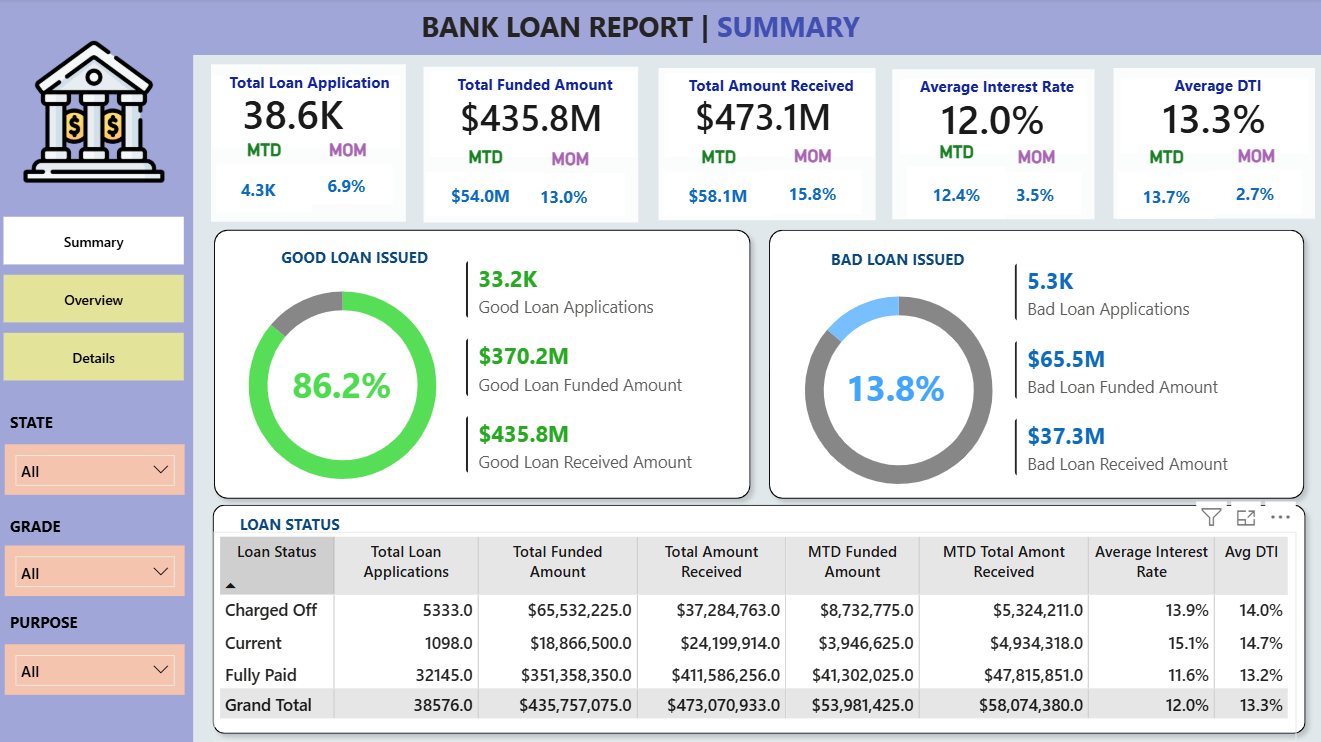

What the dashboard file says about the page in this screenshot:
{"tool":"powerbi","page":{"name":"Summary","canvas":[1280,720],"ordinal":0},"visuals":[{"type":"shape","box":[0,0,1280,55],"z":0},{"type":"shape","box":[208.2,63.9,188.2,152],"z":0,"group":"g1"},{"type":"shape","box":[413.1,65.9,207.5,150.3],"z":0,"group":"g4"},{"type":"shape","box":[639.4,67.6,209.9,146.9],"z":0,"group":"g5"},{"type":"shape","box":[1078.2,67.6,194.7,145.4],"z":0,"group":"g6"},{"type":"shape","box":[865.2,68.8,195.2,145.1],"z":0,"group":"g3"},{"type":"cardVisual","fields":{"Data":["Bank Loan data.Good Loan Applications"]},"box":[437.3,236.4,236.4,90.6],"z":0,"group":"g7"},{"type":"cardVisual","fields":{"Data":["Bank Loan data.Bad Loan Applications"]},"box":[966.4,239,236.4,90.6],"z":0,"group":"g8"},{"type":"shape","box":[0,54.2,190.3,665.3],"z":1000},{"type":"cardVisual","fields":{"Data":["Bank Loan data.total funded AMOUNT"]},"box":[419.2,71.3,199.8,82.4],"z":1000,"group":"g4"},{"type":"cardVisual","fields":{"Data":["Bank Loan data.total amount recived"]},"box":[645.5,72.8,202.1,80.5],"z":1000,"group":"g5"},{"type":"cardVisual","fields":{"Data":["Bank Loan data.Total Loan Applications"]},"box":[208.6,74.5,181,70],"z":1000,"group":"g1"},{"type":"cardVisual","fields":{"Data":["Bank Loan data.Avg dti"]},"box":[1085.5,77.7,180.4,72.5],"z":1000,"group":"g6"},{"type":"cardVisual","fields":{"Data":["Bank Loan data.average interest rate"]},"box":[872.5,78.9,180.9,72.3],"z":1000,"group":"g3"},{"type":"cardVisual","fields":{"Data":["Bank Loan data.Good Loan Funded Amount"]},"box":[437.3,311.2,260,91.9],"z":1000,"group":"g7"},{"type":"cardVisual","fields":{"Data":["Bank Loan data.Bad Loan Funded Amount"]},"box":[966.4,313.8,260,91.9],"z":1000,"group":"g8"},{"type":"textbox","box":[405.4,3.6,439.1,48.3],"z":2000},{"type":"textbox","box":[216,65.9,173.3,34.2],"z":2000,"group":"g1"},{"type":"textbox","box":[428.6,67.2,184.1,36.6],"z":2000,"group":"g4"},{"type":"textbox","box":[655.1,68.9,186.3,35.8],"z":2000,"group":"g5"},{"type":"textbox","box":[1092.8,68.9,172.8,35.4],"z":2000,"group":"g6"},{"type":"textbox","box":[879.8,70.1,173.3,35.3],"z":2000,"group":"g3"},{"type":"cardVisual","fields":{"Data":["Bank Loan data.Good Loan Received Amount"]},"box":[437.3,386.1,271.8,90.6],"z":2000,"group":"g7"},{"type":"cardVisual","fields":{"Data":["Bank Loan data.Bad Loan Received Amount"]},"box":[966.4,388.7,271.8,90.6],"z":2000,"group":"g8"},{"type":"group","id":"g1","title":"Group 1","box":[207.9,63.9,188.5,152],"z":3000},{"type":"cardVisual","title":"MTD","fields":{"Data":["Bank Loan data.MTD loan application"]},"box":[207.9,136.5,102.5,76],"z":3000,"group":"g1"},{"type":"cardVisual","title":"MTD","fields":{"Data":["Bank Loan data.Mtd average interest"]},"box":[874.6,139.1,105,79.6],"z":3000,"group":"g3"},{"type":"cardVisual","title":"MTD","fields":{"Data":["Bank Loan data.Mtd Total amont received"]},"box":[639.9,143,116.3,73],"z":3000,"group":"g5"},{"type":"cardVisual","title":"MTD","fields":{"Data":["Bank Loan data.MTD FUNDED AMOUNT"]},"box":[410.3,143.5,124.7,72.2],"z":3000,"group":"g4"},{"type":"cardVisual","title":"MTD","fields":{"Data":["Bank Loan data.MTD Avg DTI"]},"box":[1077.4,143.5,104.9,74.9],"z":3000,"group":"g6"},{"type":"group","id":"g2","title":"Group 1","box":[410.3,65.9,210.3,150.3],"z":4000},{"type":"cardVisual","title":"MOM","fields":{"Data":["Bank Loan data.mon loan application"]},"box":[291.6,136.7,97.6,68.3],"z":4000,"group":"g1"},{"type":"cardVisual","title":"MOM","fields":{"Data":["Bank Loan data.MOM avg dti"]},"box":[1168.2,142.2,97.3,70.8],"z":4000,"group":"g6"},{"type":"cardVisual","title":"MOM","fields":{"Data":["Bank Loan data.mon total amount application"]},"box":[736.5,142.9,105,71.5],"z":4000,"group":"g5"},{"type":"cardVisual","title":"MOM","fields":{"Data":["Bank Loan data.moM avg interest rate"]},"box":[955.5,143.2,97.6,70.7],"z":4000,"group":"g3"},{"type":"cardVisual","title":"MOM","fields":{"Data":["Bank Loan data.mon FUNDED AMOUNT application"]},"box":[496.5,144.8,116.9,70.9],"z":4000,"group":"g4"},{"type":"group","id":"g3","title":"Group 1","box":[865.2,68.8,195.2,149.9],"z":5000},{"type":"group","id":"g4","title":"Group 2","box":[410.3,65.9,210.3,150.3],"z":5001,"group":"g2"},{"type":"group","id":"g5","title":"Group 2","box":[639.4,67.6,209.9,148.4],"z":6000},{"type":"group","id":"g6","title":"Group 1","box":[1077.4,67.6,195.4,150.8],"z":7000},{"type":"shape","box":[201.5,214.7,535.7,277.5],"z":8000},{"type":"shape","box":[737.1,214.7,534.5,277.5],"z":9000},{"type":"cardVisual","fields":{"Data":["Bank Loan data.Good loan %"]},"box":[254.7,338.8,158.4,65.9],"z":10000},{"type":"donutChart","fields":{"Category":["Bank Loan data.Good VS Bad Loan"],"Y":["Bank Loan data.Total Loan Applications"]},"box":[210.1,256.1,249.5,236.4],"z":11000},{"type":"textbox","box":[270,235.8,191.4,39.3],"z":12000},{"type":"group","id":"g7","title":"Group 3","box":[437.3,236.4,271.8,240.3],"z":13000},{"type":"group","id":"g8","title":"Group 3","box":[966.4,239,271.8,240.3],"z":14000},{"type":"cardVisual","fields":{"Data":["Bank Loan data.BAD loan %"]},"box":[789.2,341.4,158.4,65.9],"z":15000},{"type":"donutChart","fields":{"Category":["Bank Loan data.Good VS Bad Loan"],"Y":["Bank Loan data.Total Loan Applications"]},"box":[747.2,260,249.5,236.4],"z":16000},{"type":"textbox","box":[774.7,236.4,191.7,38.1],"z":17000},{"type":"shape","box":[200.3,480.2,1072.5,238.9],"z":18000},{"type":"tableEx","fields":{"Values":["Bank Loan data.loan_status","Bank Loan data.Total Loan Applications","Bank Loan data.total funded AMOUNT","Bank Loan data.total amount recived","Bank Loan data.MTD FUNDED AMOUNT","Bank Loan data.Mtd Total amont received","Bank Loan data.average interest rate","Bank Loan data.Avg dti"]},"box":[209.9,515.2,1044.8,203.9],"z":19000},{"type":"textbox","box":[230.4,492.2,135.1,36.2],"z":20000},{"type":"slicer","fields":{"Values":["Bank Loan data.Address State"]},"box":[8.8,431,173.9,49.1],"z":21000},{"type":"textbox","box":[8.8,394.4,70.6,39.1],"z":22000},{"type":"slicer","fields":{"Values":["Bank Loan data.Grade"]},"box":[8.8,528,173.9,49.1],"z":23000},{"type":"slicer","fields":{"Values":["Bank Loan data.Purpose Of Loan"]},"box":[8.8,623.7,173.9,49.1],"z":24000},{"type":"textbox","box":[8.8,495.2,70.6,39.1],"z":25000},{"type":"textbox","box":[8.8,587.2,86.9,39.1],"z":26000},{"type":"pageNavigator","box":[7.5,211.5,174.2,160.5],"z":27000},{"type":"image","box":[26.5,35,136.3,149.6],"z":28000}]}

Visuals, with their boxes in screenshot pixels (x1, y1, x2, y2), scaled from the page's 1280x720 canvas onto the 1321x742 screenshot:
shape: 0:0:1320:57
shape: 215:66:409:222
shape: 426:68:640:223
shape: 660:70:877:221
shape: 1113:70:1314:220
shape: 893:71:1094:220
cardVisual - Bank Loan data.Good Loan Applications: 451:244:695:337
cardVisual - Bank Loan data.Bad Loan Applications: 997:246:1241:340
shape: 0:56:196:741
cardVisual - Bank Loan data.total funded AMOUNT: 433:73:639:158
cardVisual - Bank Loan data.total amount recived: 666:75:875:158
cardVisual - Bank Loan data.Total Loan Applications: 215:77:402:149
cardVisual - Bank Loan data.Avg dti: 1120:80:1306:155
cardVisual - Bank Loan data.average interest rate: 900:81:1087:156
cardVisual - Bank Loan data.Good Loan Funded Amount: 451:321:720:415
cardVisual - Bank Loan data.Bad Loan Funded Amount: 997:323:1266:418
textbox: 418:4:872:53
textbox: 223:68:402:103
textbox: 442:69:632:107
textbox: 676:71:868:108
textbox: 1128:71:1306:107
textbox: 908:72:1087:109
cardVisual - Bank Loan data.Good Loan Received Amount: 451:398:732:491
cardVisual - Bank Loan data.Bad Loan Received Amount: 997:401:1278:494
"Group 1" group: 215:66:409:222
"MTD" cardVisual: 215:141:320:219
"MTD" cardVisual: 903:143:1011:225
"MTD" cardVisual: 660:147:780:223
"MTD" cardVisual: 423:148:552:222
"MTD" cardVisual: 1112:148:1220:225
"Group 1" group: 423:68:640:223
"MOM" cardVisual: 301:141:402:211
"MOM" cardVisual: 1206:147:1306:220
"MOM" cardVisual: 760:147:868:221
"MOM" cardVisual: 986:148:1087:220
"MOM" cardVisual: 512:149:633:222
"Group 1" group: 893:71:1094:225
"Group 2" group: 423:68:640:223
"Group 2" group: 660:70:877:223
"Group 1" group: 1112:70:1314:225
shape: 208:221:761:507
shape: 761:221:1312:507
cardVisual - Bank Loan data.Good loan %: 263:349:426:417
donutChart - Bank Loan data.Good VS Bad Loan x Bank Loan data.Total Loan Applications: 217:264:474:508
textbox: 279:243:476:284
"Group 3" group: 451:244:732:491
"Group 3" group: 997:246:1278:494
cardVisual - Bank Loan data.BAD loan %: 814:352:978:420
donutChart - Bank Loan data.Good VS Bad Loan x Bank Loan data.Total Loan Applications: 771:268:1029:512
textbox: 800:244:997:283
shape: 207:495:1314:741
tableEx - Bank Loan data.loan_status x Bank Loan data.Total Loan Applications: 217:531:1295:741
textbox: 238:507:377:545
slicer - Bank Loan data.Address State: 9:444:189:495
textbox: 9:406:82:447
slicer - Bank Loan data.Grade: 9:544:189:595
slicer - Bank Loan data.Purpose Of Loan: 9:643:189:693
textbox: 9:510:82:551
textbox: 9:605:99:645
pageNavigator: 8:218:188:383
image: 27:36:168:190
